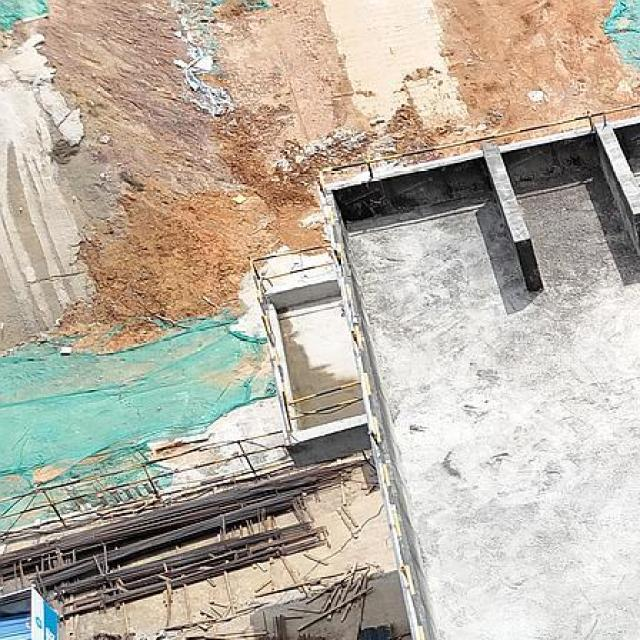edge_guardrail: (317, 103, 640, 640), (0, 430, 294, 540), (247, 242, 362, 432)
